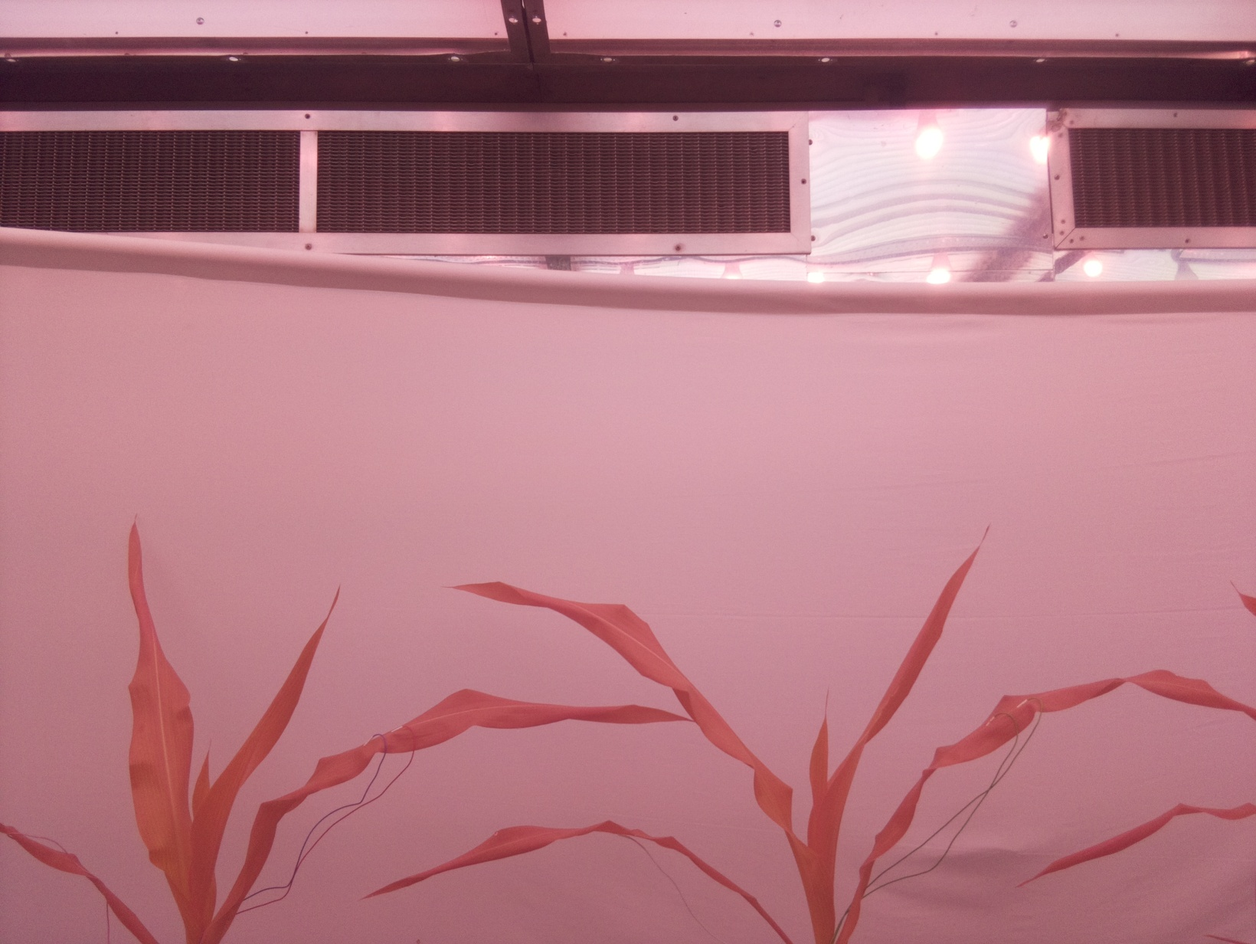maize: (356, 522, 1256, 944), (0, 514, 701, 944)
